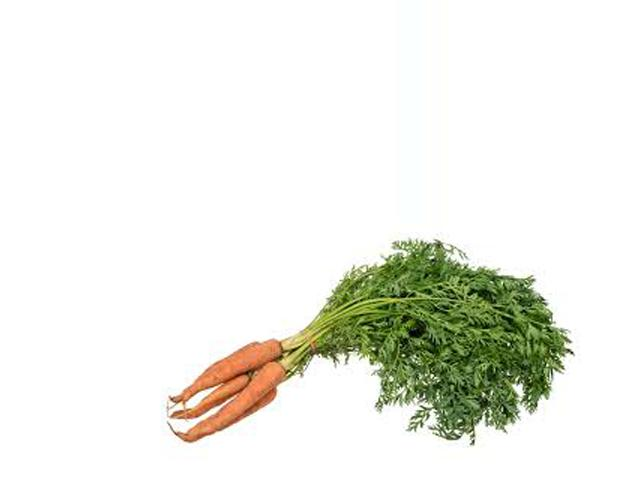carrot: (186, 362, 294, 442)
